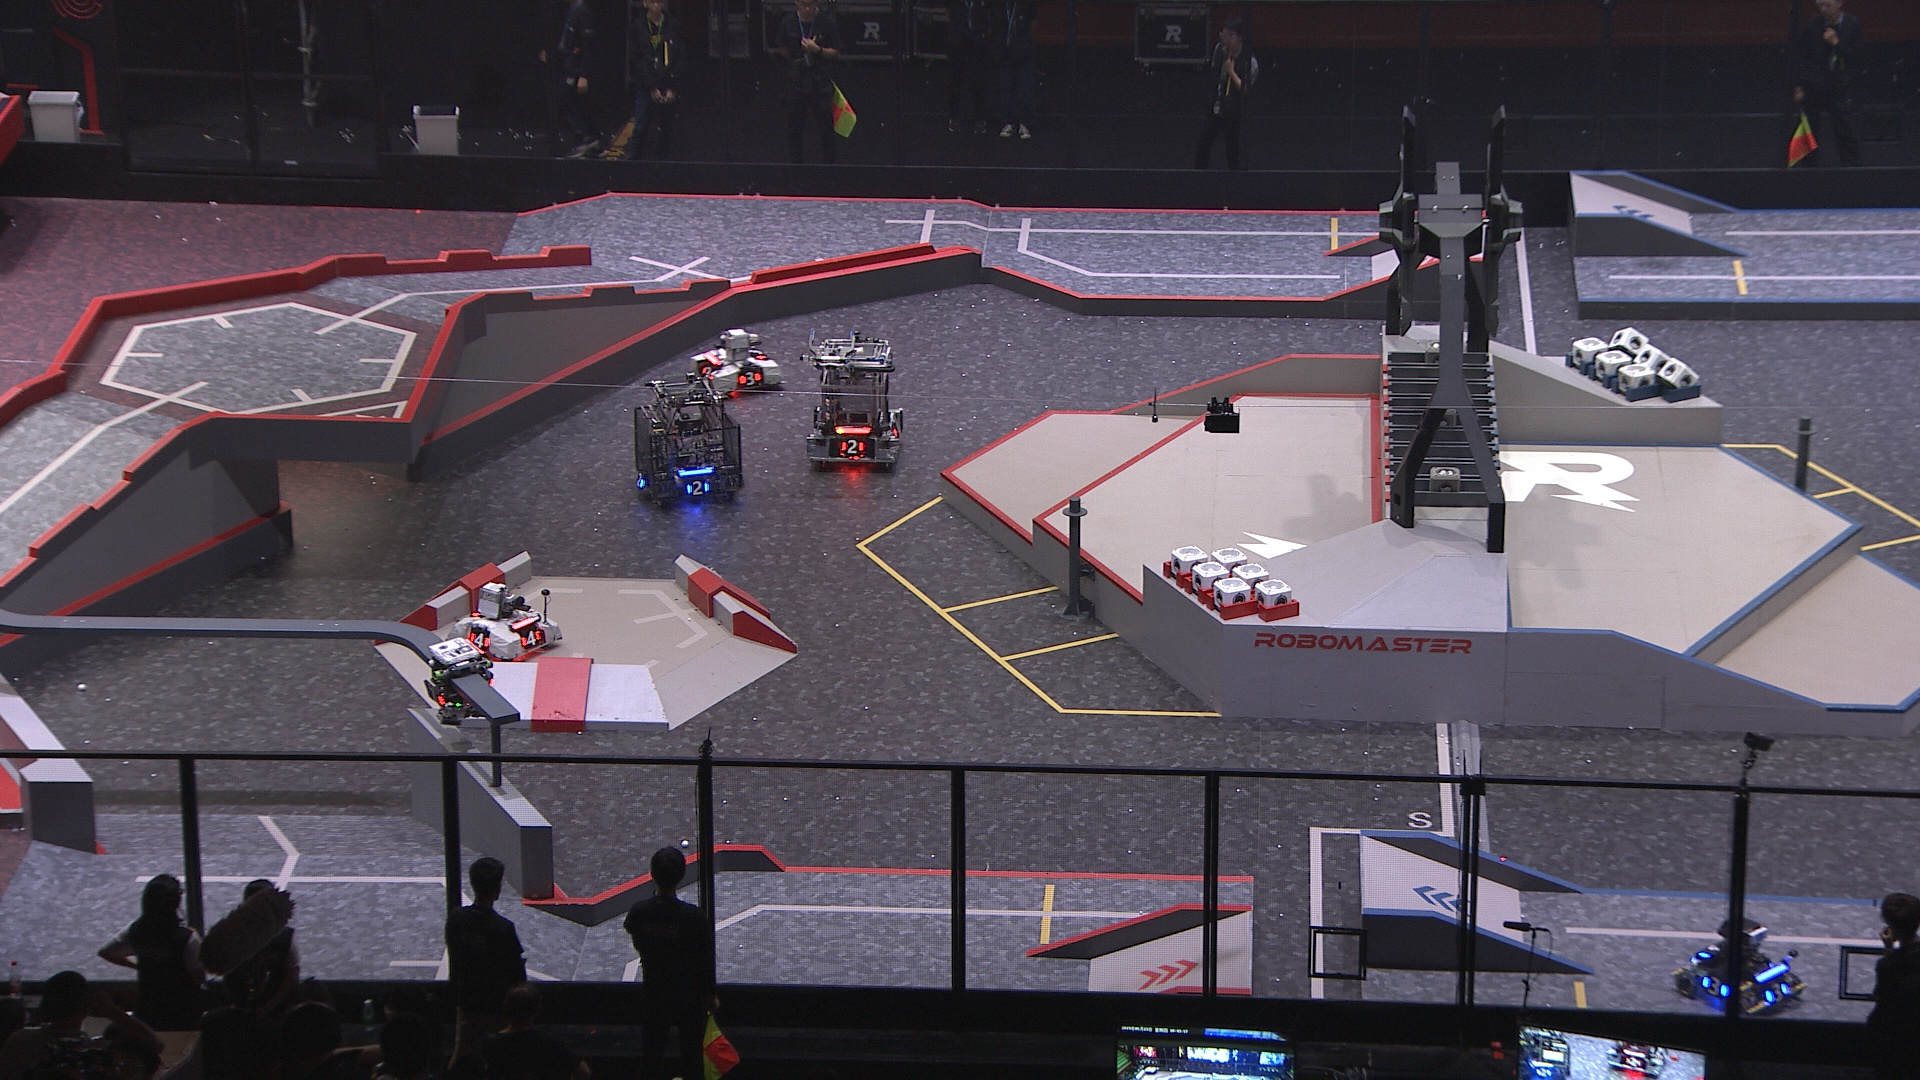armor: (1697, 972, 1731, 1001), (419, 679, 448, 708), (465, 626, 496, 651), (1764, 977, 1789, 1007), (517, 622, 545, 647), (837, 434, 868, 456), (683, 477, 713, 498), (737, 371, 766, 390), (1698, 942, 1724, 963), (698, 363, 716, 384), (629, 469, 647, 491), (887, 418, 902, 438), (750, 342, 764, 360)
car: (1673, 906, 1811, 1021), (632, 375, 746, 508), (802, 330, 906, 472), (439, 576, 567, 665), (690, 324, 790, 404)
watcher: (419, 636, 501, 731)
